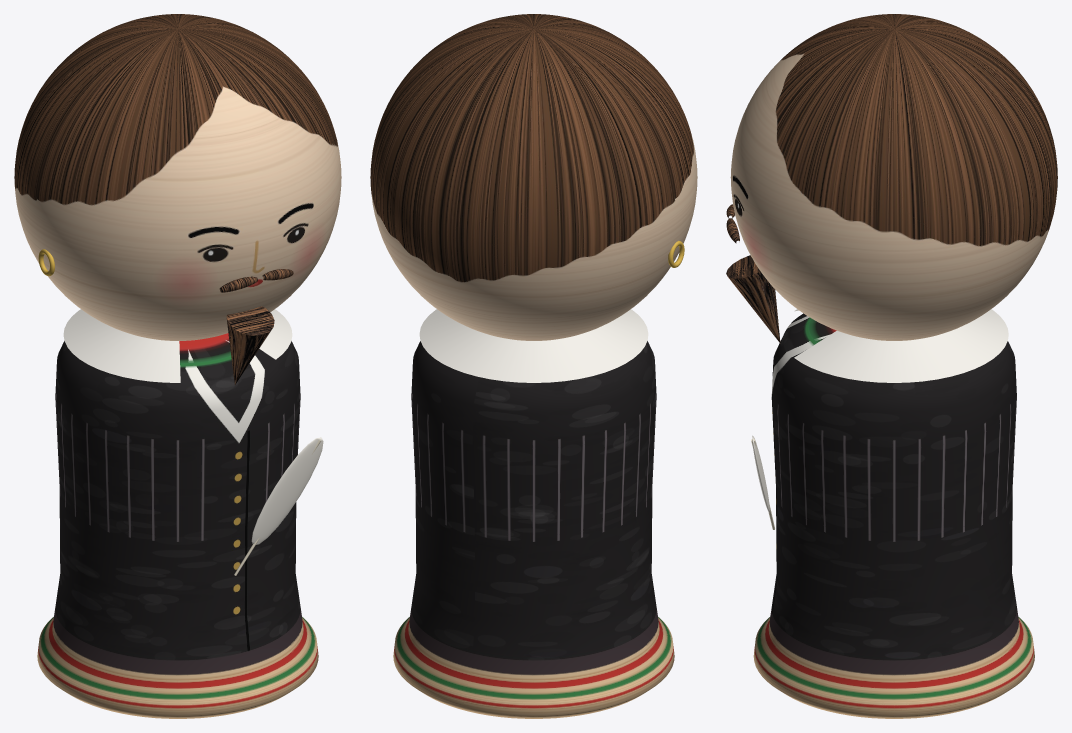
File: shakespeare.glb
3 renders of one model, left to right at view 1: azimuth 30°, elevation 25°; view 2: azimuth 150°, elevation 25°; view 3: azimuth 270°, elevation 25°, orthographic.
Parts seen in each view (by area): view 1: body, head, William Shakespeare; view 2: head, body, William Shakespeare; view 3: body, head, William Shakespeare.
Boxes of the visible parts, left/top/right/bottom form: body: left=37, top=333, right=318, bottom=718; head: left=14, top=14, right=341, bottom=340; William Shakespeare: left=38, top=249, right=323, bottom=575; head: left=370, top=14, right=697, bottom=340; body: left=393, top=341, right=674, bottom=718; William Shakespeare: left=419, top=240, right=684, bottom=382; body: left=753, top=313, right=1034, bottom=718; head: left=730, top=14, right=1057, bottom=340; William Shakespeare: left=726, top=204, right=1008, bottom=529.
Bounding box in the file's own units: 0.075 × 0.1605 × 0.0761.
9 materials, 4 textured.
